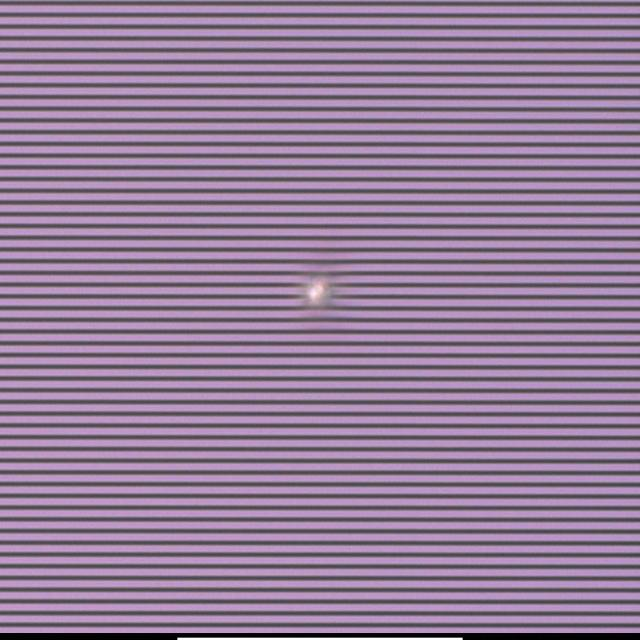nonvisual: (298, 270, 336, 318)
